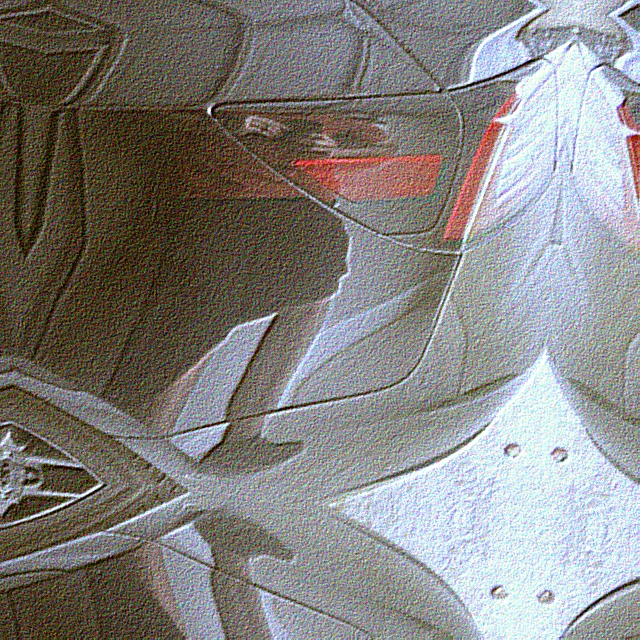reflector: (290, 140, 448, 212)
